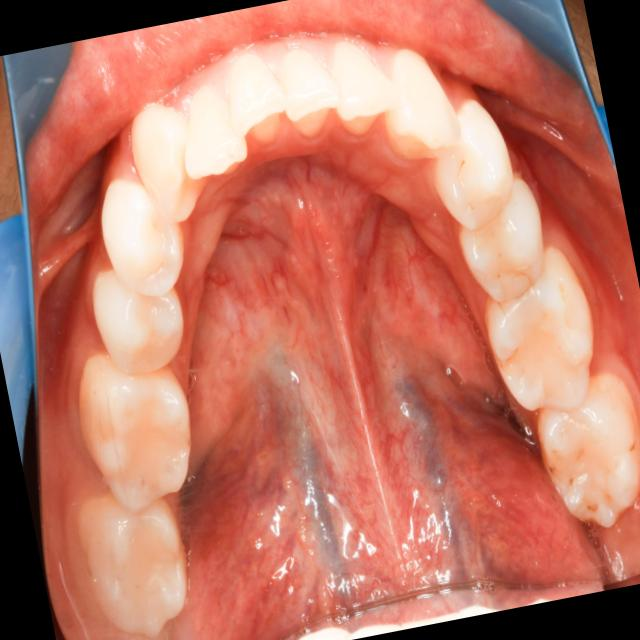Caries: (550, 467, 553, 473)
Tooth: (484, 247, 595, 412), (79, 354, 192, 514), (536, 372, 640, 529), (77, 493, 188, 638), (458, 176, 545, 305), (434, 98, 515, 230), (101, 178, 184, 297), (93, 269, 184, 375), (131, 105, 207, 223), (385, 49, 462, 161), (331, 40, 403, 135), (185, 84, 247, 180), (279, 49, 342, 138), (229, 53, 286, 145)
